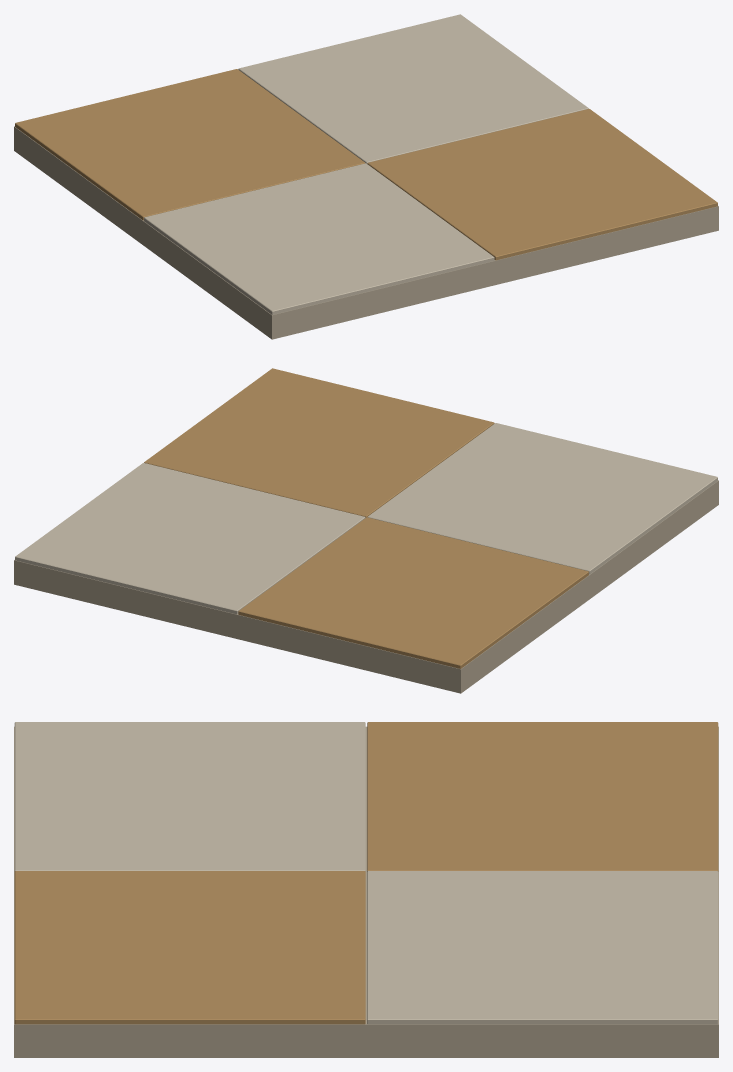
File: paving_tile_c.glb
The picture shows the model from 3 angles, top to bottom: view 1: azimuth 30°, elevation 25°; view 2: azimuth 150°, elevation 25°; view 3: azimuth 270°, elevation 25°; orthographic projection. The views are drawn at different scales.
Parts seen in each view (by area): view 1: paving_tile_c.001; view 2: paving_tile_c.001; view 3: paving_tile_c.001.
Boxes of the visible parts, x1,y1,x2,y2 form: paving_tile_c.001: (14, 14, 718, 339); paving_tile_c.001: (14, 368, 718, 693); paving_tile_c.001: (14, 722, 718, 1057).
Size of the model in its own units: 1 by 0.06 by 1.
